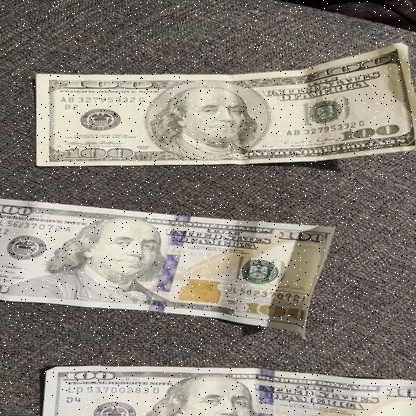one_hundred-front: (33, 42, 416, 168)
